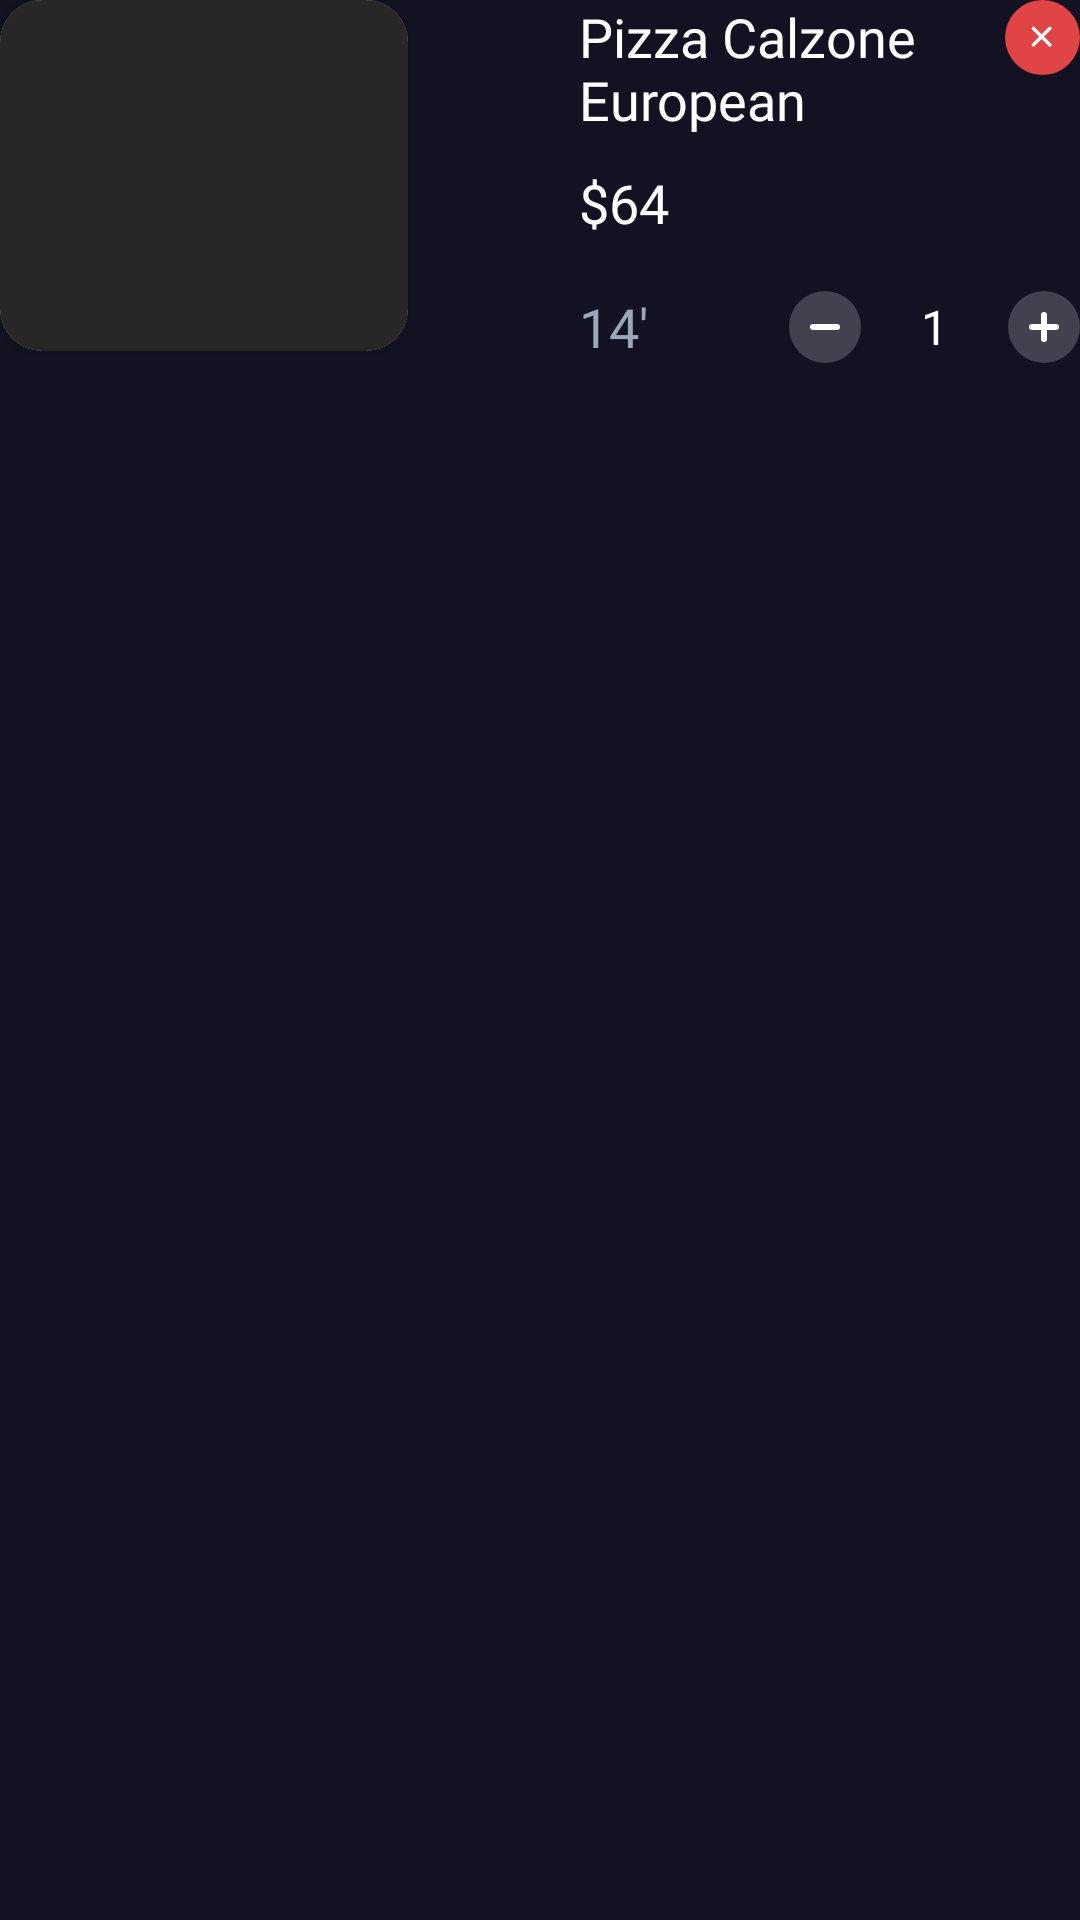

Icons on this 1080px x 1920px Android screen, each with its box as rect(x1, y1, x2, y2):
minus: rect(789, 291, 861, 363)
plus: rect(1008, 291, 1080, 363)
remove item cart: rect(1005, 0, 1080, 75)
